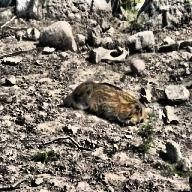boar: (58, 80, 148, 127)
